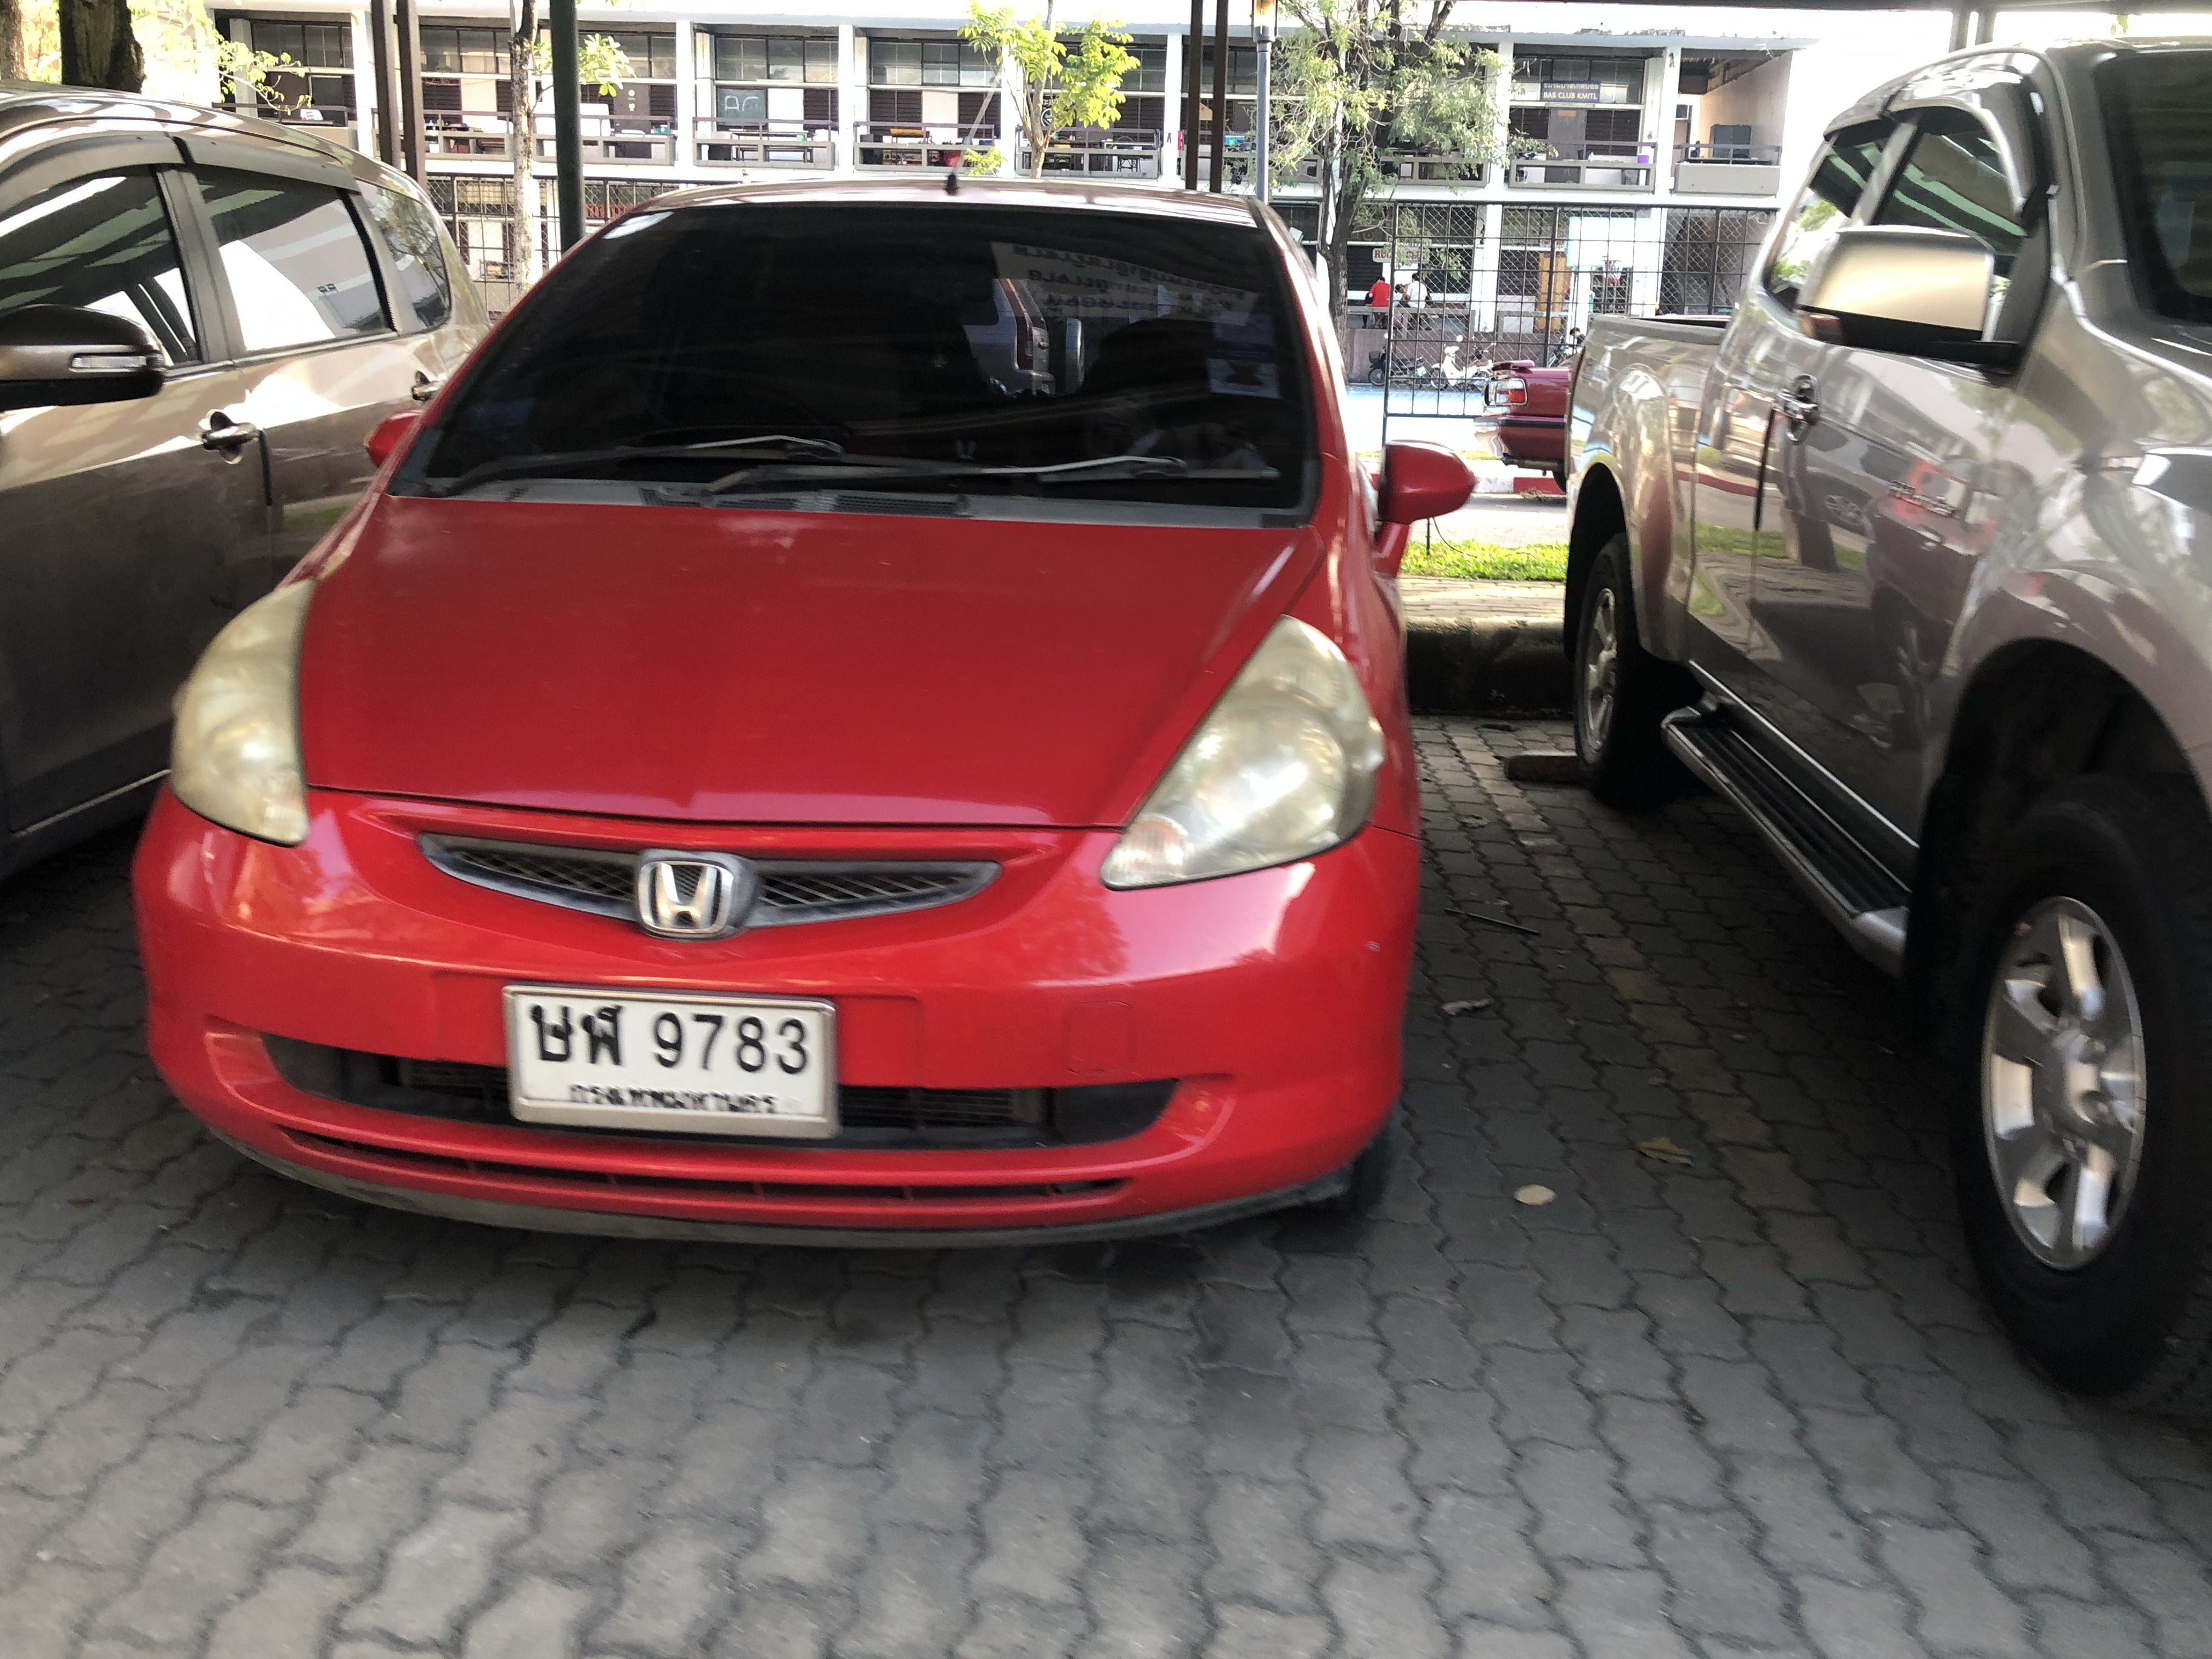in: (519, 995, 831, 1121)
out: (505, 986, 841, 1134)
